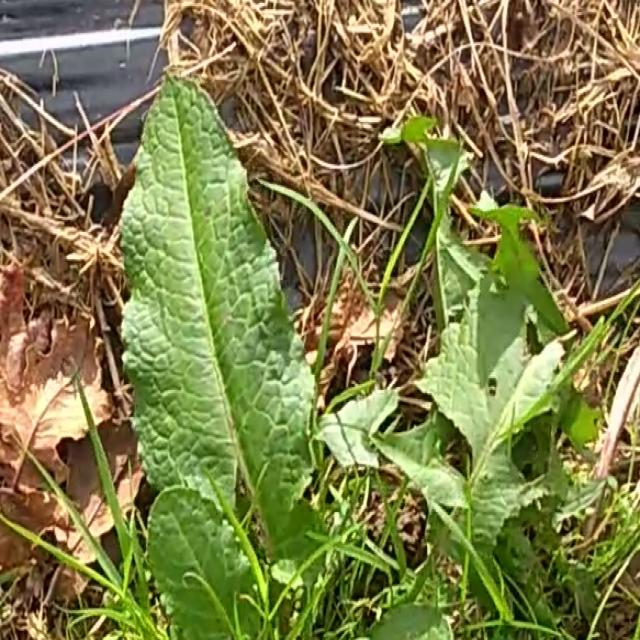organic waste: (55, 66, 631, 640)
